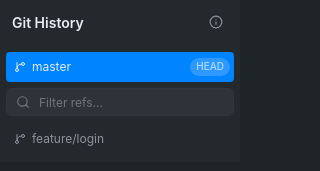
it: GitRefsPanel branch context menu › opens the context menu when right-clicking a non-HEAD local branch row
This screenshot has width=320, height=171.
Right-click the element with class "kb-git-ref-row" showing "feature/login": [120, 139] box [6, 124, 234, 154]
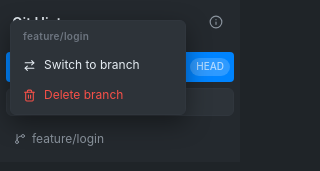
Check: the menu is shown, box [10, 20, 186, 115]
